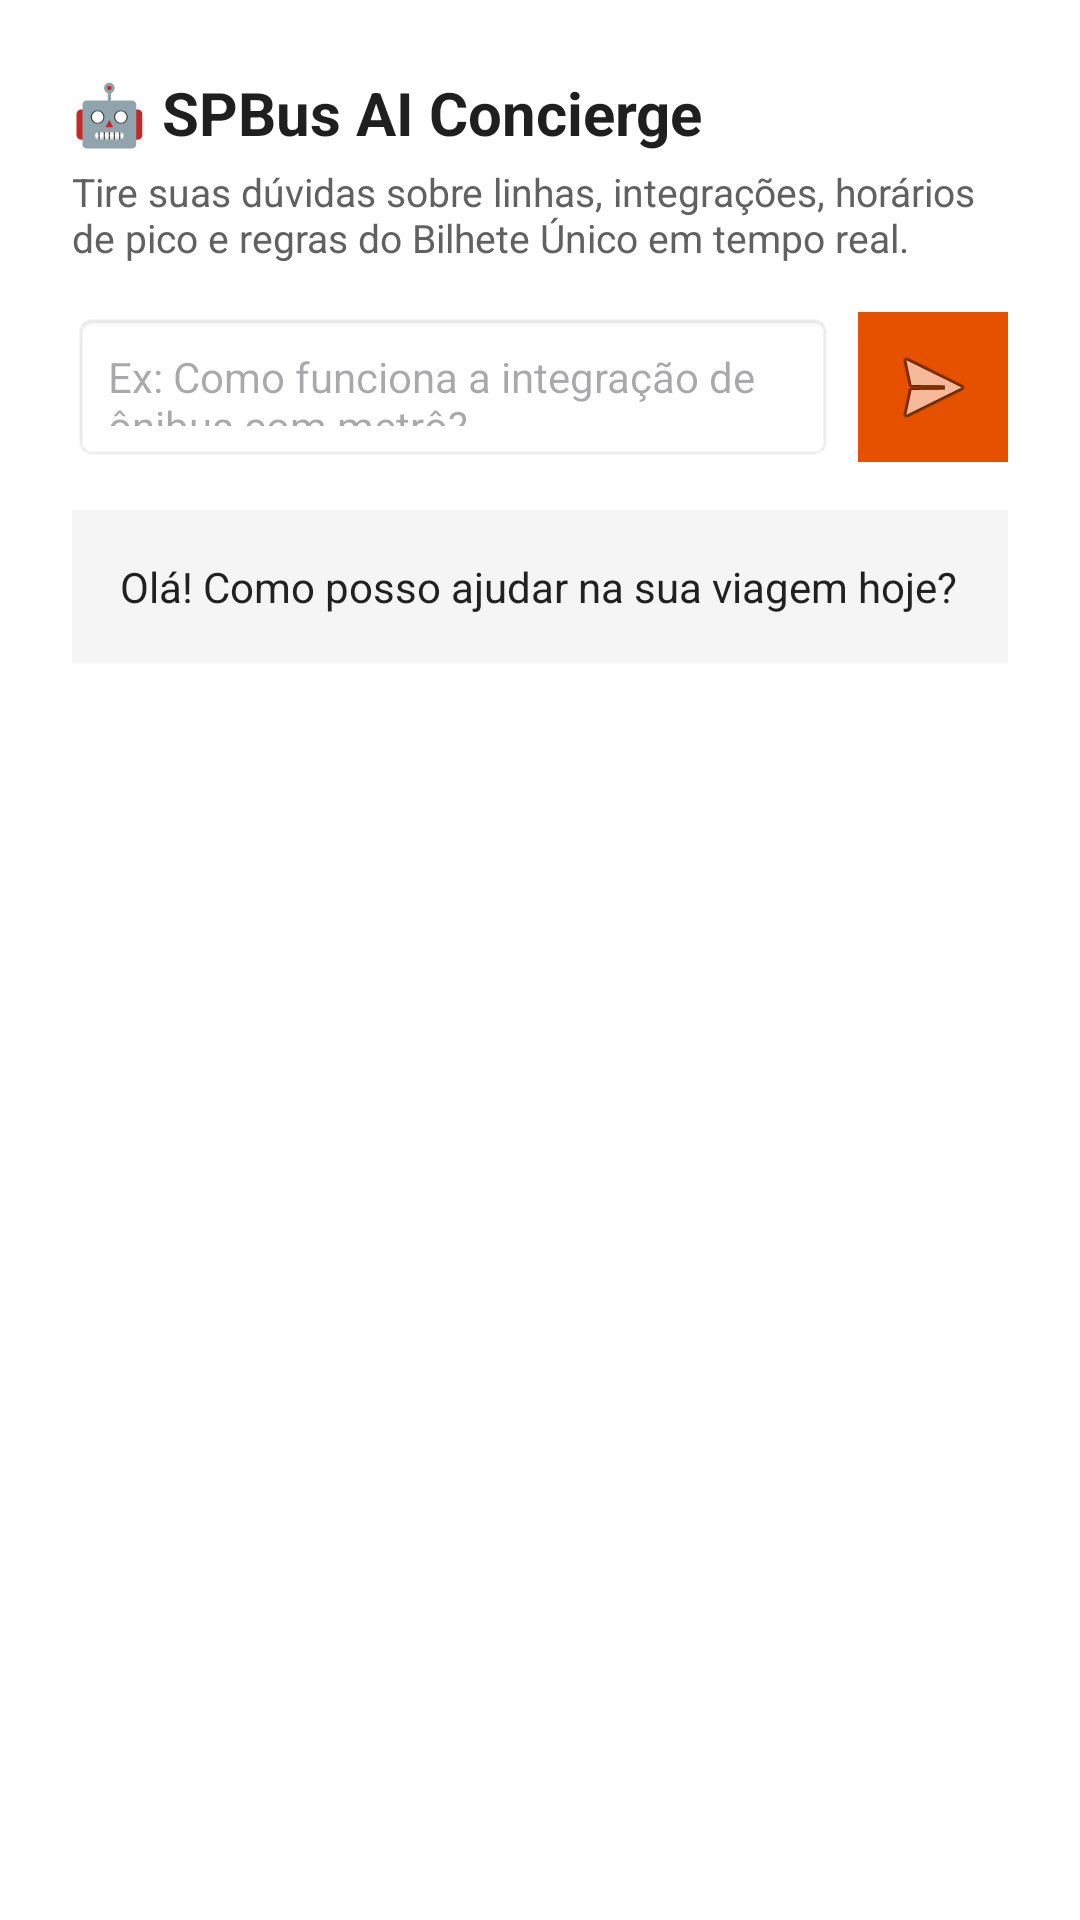

Where to tap for icons on this 1080w x 1920h app screen, as (x=x, y=y):
send: (x=933, y=387)
